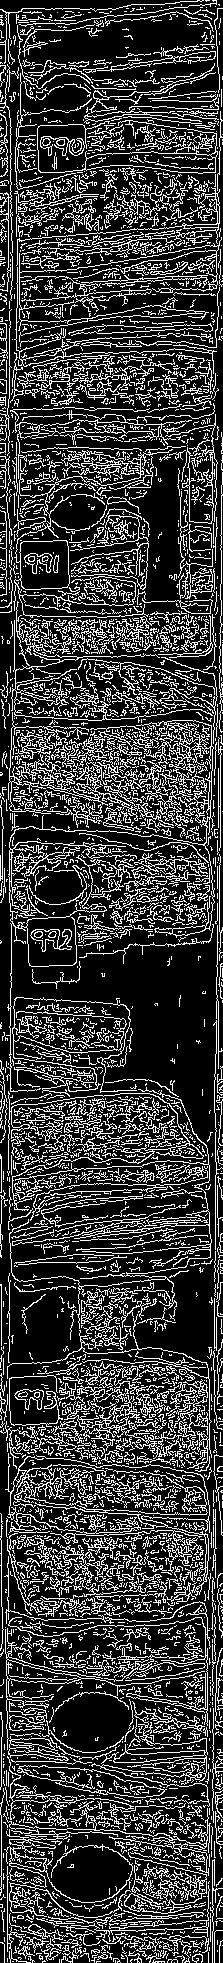hplug: (18, 848, 96, 919), (114, 1292, 185, 1365), (43, 474, 114, 543), (30, 60, 95, 126)
scal: (43, 1673, 138, 1771), (43, 1822, 138, 1919)
vplug: (132, 434, 189, 615), (16, 1269, 91, 1385)
